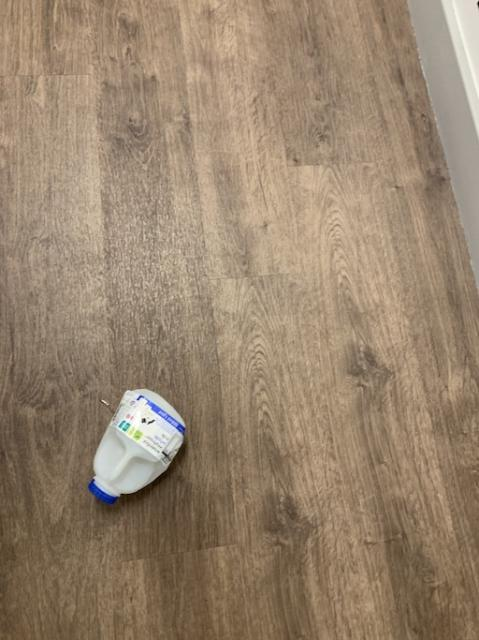plastic: (87, 388, 184, 502)
